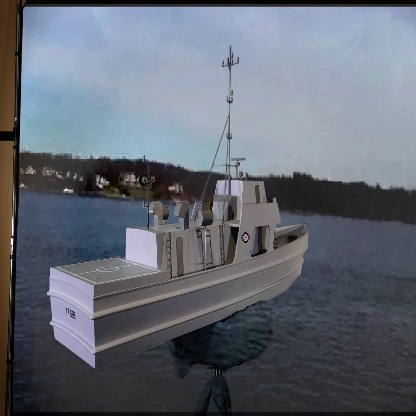YP689: (47, 44, 311, 368)
